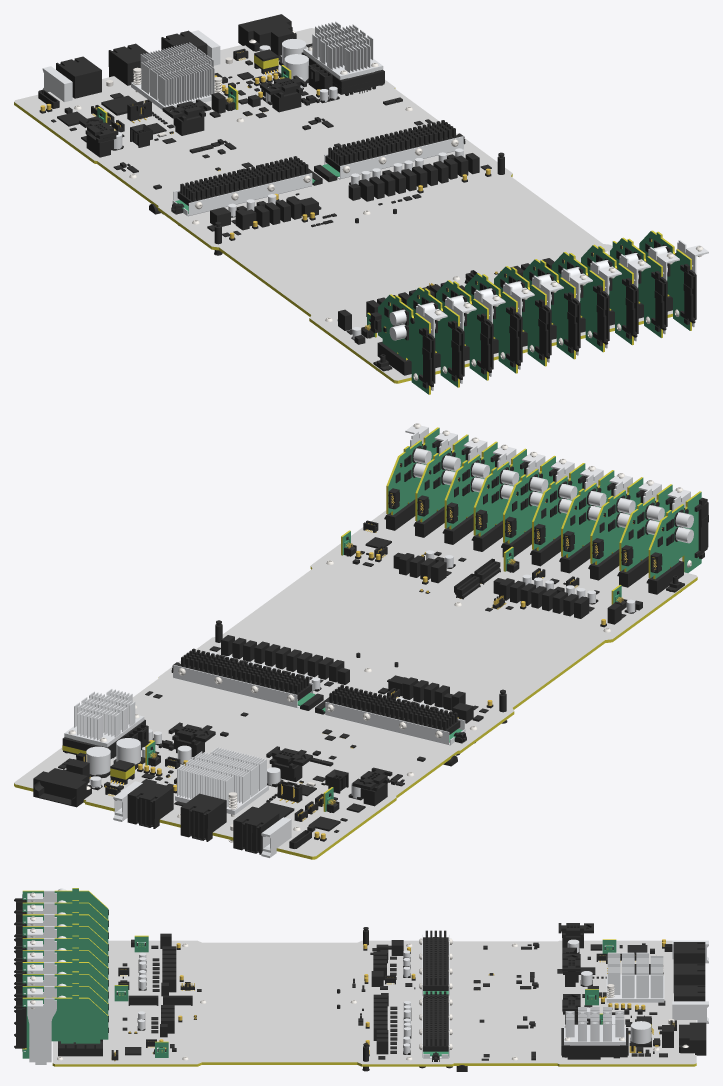
File: cosmo-int-1.glb
3 views of the same model, one above another, from view 1: azimuth 30°, elevation 25°; view 2: azimuth 150°, elevation 25°; view 3: azimuth 270°, elevation 25° (orthographic). The views are drawn at different scales.
Visible parts, largest first — view 1: PCB.002, Cube.194, Cube.239, Cube.007, Alpha Novatech S089LB14.003, Cosmo_Sharkfin_BOARD.022, OXC991-0000150_sm-SHARKFIN BRACKET, COSMO.035, OXC991-0000150_sm-SHARKFIN BRACKET, COSMO.036, Cosmo_Sharkfin_BOARD.024, Cosmo_Sharkfin_BOARD.029, Cosmo_Sharkfin_BOARD.030, Cosmo_Sharkfin_BOARD.027 (+24 smaller); view 2: PCB.002, Cube.194, Cube.239, Cube.007, Alpha Novatech S089LB14.003, Cosmo_Sharkfin_BOARD.022, Cube.196, Cube.197, OXC991-0000150_sm-SHARKFIN BRACKET, COSMO.035, Cube.198, OXC991-0000150_sm-SHARKFIN BRACKET, COSMO.036, Cosmo_Sharkfin_BOARD.026 (+11 smaller); view 3: PCB.002, Cube.194, Cosmo_Sharkfin_BOARD.026, Cube.239, OXC991-0000150_sm-SHARKFIN BRACKET, COSMO.034, Cube.007, Alpha Novatech S089LB14.003, Cube.195, Cube.198, Cosmo_Sharkfin_BOARD.022, Cosmo_Sharkfin_BOARD.027, Cosmo_Sharkfin_BOARD.028 (+23 smaller).
Part boxes in pixels (x1,y1,x2,y2): PCB.002: (14,28,672,383); Cube.194: (131,42,224,109); Cube.239: (303,21,383,79); Cube.007: (325,120,457,172); Alpha Novatech S089LB14.003: (177,156,309,205); Cosmo_Sharkfin_BOARD.022: (378,294,430,394); OXC991-0000150_sm-SHARKFIN BRACKET, COSMO.035: (172,173,312,216); OXC991-0000150_sm-SHARKFIN BRACKET, COSMO.036: (324,136,463,179); Cosmo_Sharkfin_BOARD.024: (494,266,546,366); Cosmo_Sharkfin_BOARD.029: (523,259,575,359); Cosmo_Sharkfin_BOARD.030: (552,252,604,352); Cosmo_Sharkfin_BOARD.027: (407,287,459,387); PCB.002: (14,510,697,859); Cube.194: (175,747,268,814); Cube.239: (64,689,144,747); Cube.007: (179,648,311,700); Alpha Novatech S089LB14.003: (328,684,460,734); Cosmo_Sharkfin_BOARD.022: (648,491,701,579); Cube.196: (180,793,226,841); Cube.197: (127,781,173,828); OXC991-0000150_sm-SHARKFIN BRACKET, COSMO.035: (325,702,465,745); Cube.198: (33,768,91,807); OXC991-0000150_sm-SHARKFIN BRACKET, COSMO.036: (173,665,313,708); Cosmo_Sharkfin_BOARD.026: (386,427,439,515); PCB.002: (52,940,696,1066); Cube.194: (606,952,664,1002); Cosmo_Sharkfin_BOARD.026: (22,995,108,1058); Cube.239: (564,1007,625,1045); OXC991-0000150_sm-SHARKFIN BRACKET, COSMO.034: (27,998,56,1064); Cube.007: (423,991,448,1051); Alpha Novatech S089LB14.003: (423,930,448,990); Cube.195: (561,1028,628,1059); Cube.198: (679,1022,706,1055); Cosmo_Sharkfin_BOARD.022: (22,888,108,919); Cosmo_Sharkfin_BOARD.027: (22,900,108,931); Cosmo_Sharkfin_BOARD.028: (22,923,108,955).
Bounding box in the file's own units: 0.254 × 0.0667 × 0.6043.
